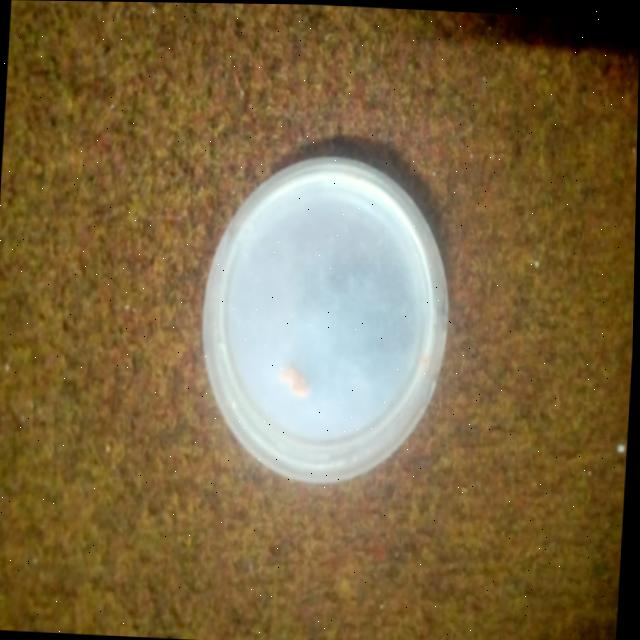powder: (189, 134, 471, 486)
